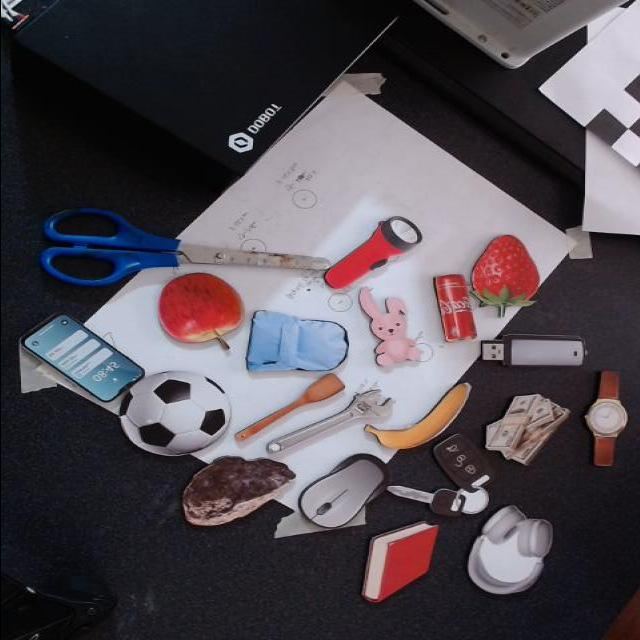Other Objects: (40, 209, 329, 286), (105, 361, 245, 467), (386, 431, 520, 533), (285, 447, 413, 542), (263, 386, 399, 470), (19, 313, 145, 403), (456, 501, 563, 601), (317, 211, 429, 302), (234, 373, 348, 452), (472, 386, 576, 469), (181, 456, 297, 527), (364, 383, 472, 450), (244, 312, 352, 379), (157, 273, 244, 351), (575, 371, 636, 467), (357, 288, 424, 368), (481, 334, 584, 369), (433, 275, 477, 343)
